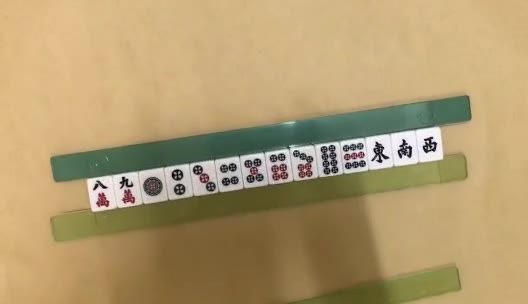1p: (143, 178, 164, 198)
1z: (372, 142, 389, 165)
2p: (171, 170, 187, 197)
2z: (397, 139, 413, 159)
3p: (193, 164, 216, 192)
3z: (422, 137, 438, 152)
4p: (220, 162, 238, 185)
5p: (244, 158, 265, 183)
6p: (269, 154, 288, 181)
7p: (293, 149, 314, 178)
8m: (90, 179, 112, 207)
8p: (320, 144, 339, 175)
9m: (119, 177, 135, 203)
9p: (342, 143, 367, 170)
